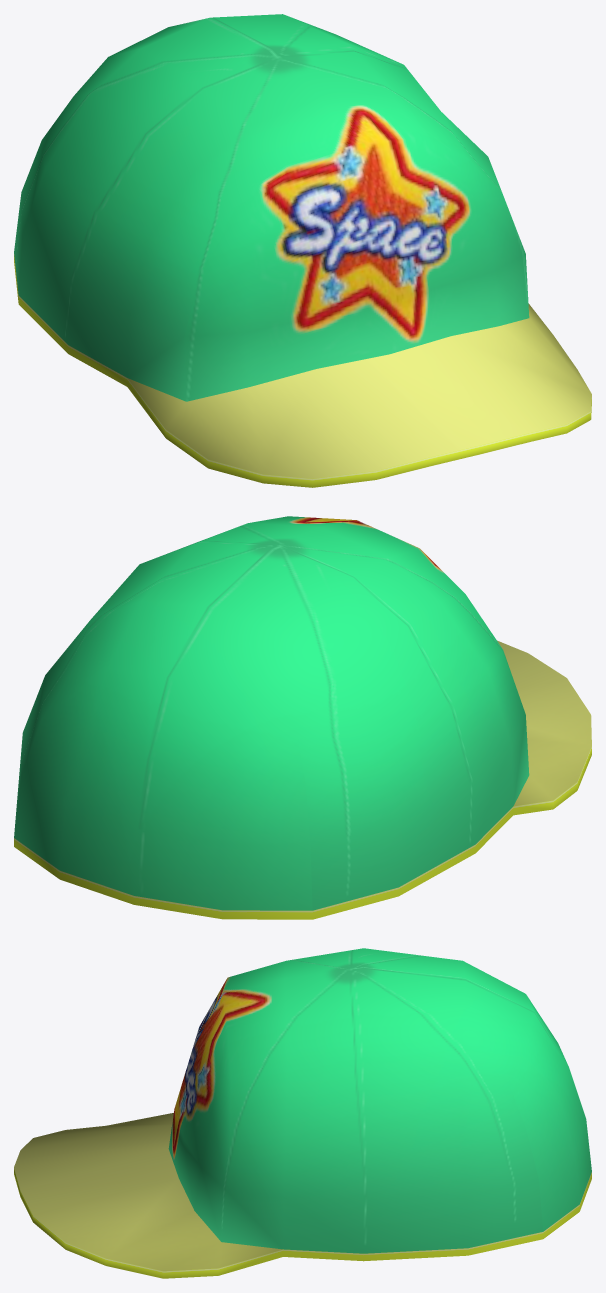
The model's file is boy_cap5.FBX.
3 renders of one model, top to bottom at view 1: azimuth 30°, elevation 25°; view 2: azimuth 150°, elevation 25°; view 3: azimuth 270°, elevation 25°, orthographic. The views are drawn at different scales.
Visible parts, largest first — view 1: boy_cap18; view 2: boy_cap18; view 3: boy_cap18.
Boxes of the visible parts, <box> form: boy_cap18: <box>14,14,591,487</box>; boy_cap18: <box>14,516,591,919</box>; boy_cap18: <box>14,948,591,1278</box>.
Bounding box in the file's own units: 46.25 × 33.82 × 68.7.
